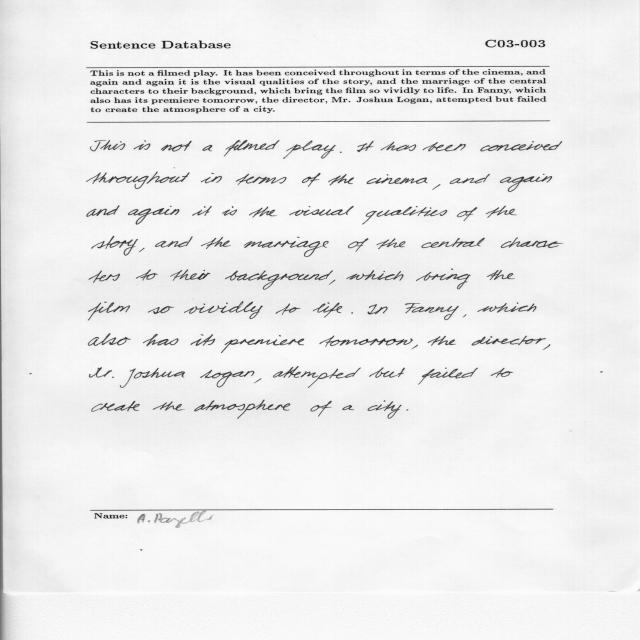word: (225, 270, 333, 290), (273, 366, 361, 388), (194, 400, 290, 419), (87, 172, 190, 189), (362, 206, 447, 225), (418, 368, 513, 385), (421, 238, 563, 249), (221, 335, 304, 353), (244, 240, 329, 257), (184, 301, 263, 319), (120, 368, 185, 388), (319, 335, 413, 347), (416, 269, 471, 289), (283, 140, 336, 159), (128, 206, 179, 225), (500, 174, 552, 192), (92, 236, 138, 256), (201, 370, 255, 387), (406, 303, 459, 320), (224, 140, 280, 156), (480, 141, 562, 151), (88, 302, 130, 321), (472, 336, 546, 346), (289, 206, 354, 216), (478, 302, 537, 313), (347, 270, 404, 281), (368, 401, 402, 419), (367, 174, 428, 184), (236, 174, 287, 185), (88, 333, 131, 346), (92, 401, 140, 412), (170, 269, 211, 281), (313, 303, 342, 318), (143, 334, 178, 346), (155, 237, 193, 248), (89, 270, 120, 283), (450, 174, 490, 184), (369, 367, 405, 378), (423, 142, 466, 151), (91, 140, 126, 151), (486, 206, 517, 218), (87, 206, 120, 217), (201, 237, 231, 249), (161, 141, 192, 152), (311, 401, 332, 417), (153, 401, 185, 411), (377, 238, 406, 249), (381, 142, 416, 151), (249, 207, 277, 218), (276, 303, 301, 315), (191, 334, 216, 346), (328, 174, 354, 185), (457, 207, 477, 221), (348, 238, 368, 252), (487, 270, 515, 280), (428, 336, 456, 346), (89, 367, 114, 378), (302, 173, 321, 187), (136, 270, 158, 281), (201, 173, 222, 183), (148, 306, 174, 314), (192, 206, 212, 216), (368, 304, 388, 314), (357, 141, 374, 152), (134, 140, 151, 150), (223, 206, 238, 216), (342, 405, 354, 410), (203, 145, 212, 151), (433, 184, 441, 190), (543, 344, 551, 350), (254, 379, 261, 384), (329, 280, 335, 285), (139, 248, 145, 252), (412, 345, 418, 349), (463, 315, 467, 318), (600, 371, 603, 373), (351, 312, 353, 314), (297, 237, 300, 238), (340, 152, 342, 153), (407, 410, 409, 411)
